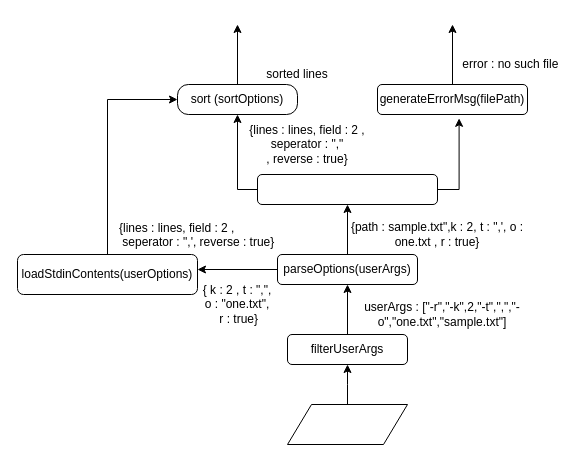
The diagram is 585 pixels wide and 462 high, and some of its shapes have lost their labels. The shapes that lost their labels are listed below. From the top down, each one's centre as x and y in pixels, then its label:
At pixel 347 189: "loadContents(userOptions)".
At pixel 347 424: "cmdLineArgs".
